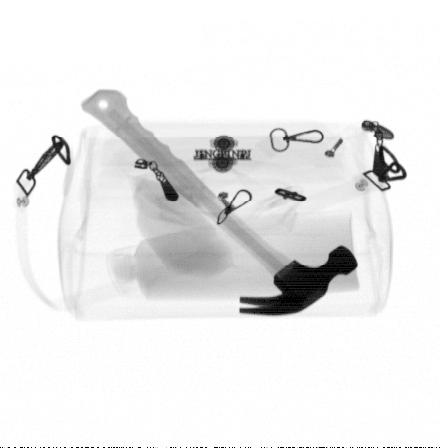Hammer: (80, 88, 359, 316)
